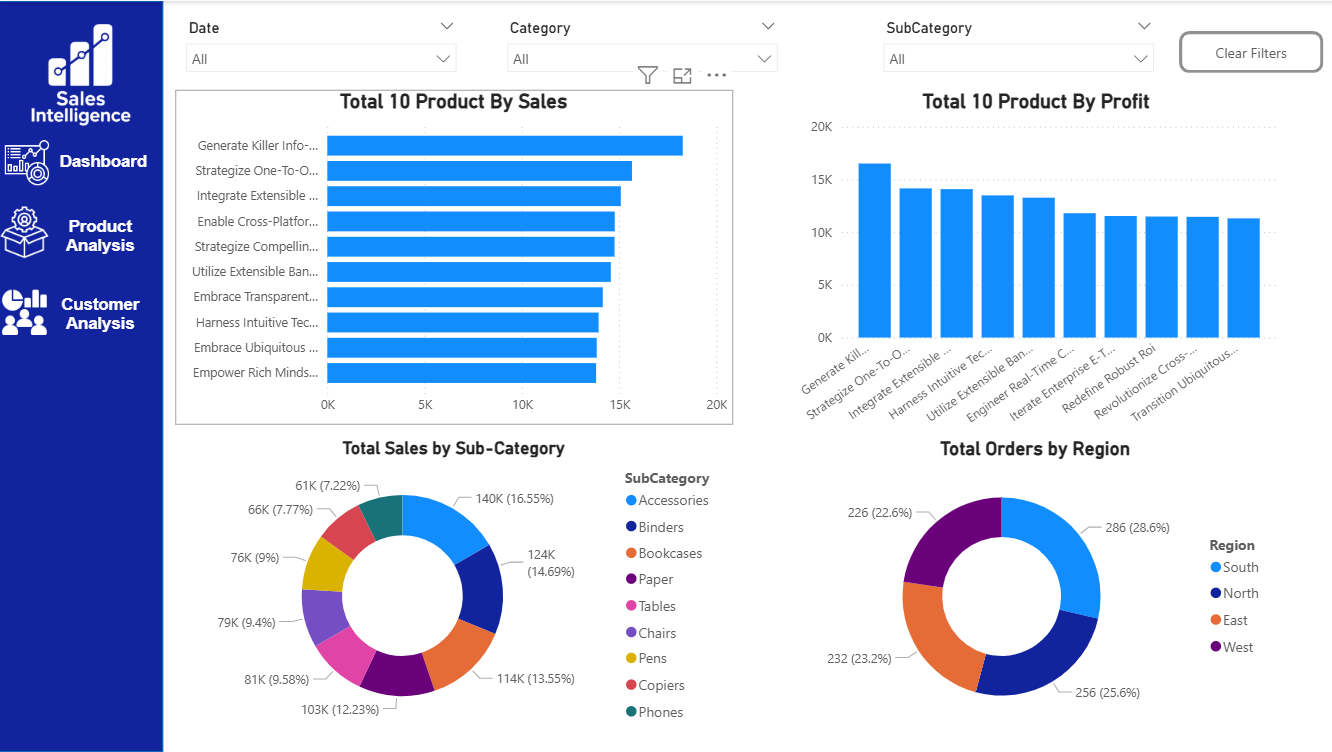

The page's visual inventory and layout, read from the dashboard file:
{"tool":"powerbi","page":{"name":"Product Analysis","canvas":[1280,720],"ordinal":1},"visuals":[{"type":"shape","box":[0,0,157.4,720],"z":0},{"type":"image","box":[0,0,157.4,145.8],"z":1000},{"type":"slicer","fields":{"Values":["Date_Dim.Date Hierarchy.Date","Date_Dim.Date Hierarchy.Start of Year","Date_Dim.Date Hierarchy.Start of Week","Date_Dim.Date Hierarchy.Start of Month"]},"box":[169.1,12.5,279.4,73],"z":1001},{"type":"slicer","fields":{"Values":["Product_Dim.Category"]},"box":[477,12.5,279.4,73],"z":1002},{"type":"slicer","fields":{"Values":["Product_Dim.SubCategory"]},"box":[838.3,12.5,279.4,73],"z":1003},{"type":"clusteredBarChart","title":"Total 10 Product By Sales","fields":{"Category":["Product_Dim.ProductName"],"Y":["Measures Table.Total Sales"]},"box":[169.1,85.4,533.9,320.4],"z":1004},{"type":"clusteredColumnChart","title":"Total 10 Product By Profit","fields":{"Category":["Product_Dim.ProductName"],"Y":["Measures Table.Total Profit"]},"box":[758.2,85.4,471.6,332.8],"z":1005},{"type":"donutChart","title":"Total Sales by Sub-Category","fields":{"Category":["Product_Dim.SubCategory"],"Y":["Measures Table.Total Sales"]},"box":[169.1,418.2,533.9,284.8],"z":1006},{"type":"donutChart","fields":{"Category":["Customer_Dim.Region"],"Y":["Measures Table.Total Orders"]},"box":[758,418,472,285],"z":1007},{"type":"textbox","box":[49.1,140.2,101.9,32.4],"z":1008},{"type":"textbox","box":[49.1,202.5,95.9,52.7],"z":1009},{"type":"textbox","box":[49.1,276.9,95.9,52.7],"z":1010},{"type":"image","box":[4.8,127,44.3,56.3],"z":1011},{"type":"image","box":[0,195.4,49.1,52.7],"z":1012},{"type":"image","box":[0,267.3,49.1,62.3],"z":1013},{"type":"actionButton","box":[1131.1,28.9,138.5,40.4],"z":1014}]}

Visuals, with their boxes on the page's 1280x720 design canvas (x1, y1, x2, y2). These are canvas units, not pixel positions in the 1332x752 screenshot, which may show the page scaled, cropped or inside an application window:
shape: [0,0,157,720]
image: [0,0,157,146]
slicer - Date_Dim.Date Hierarchy.Date x Date_Dim.Date Hierarchy.Start of Year: [169,12,448,86]
slicer - Product_Dim.Category: [477,12,756,86]
slicer - Product_Dim.SubCategory: [838,12,1118,86]
"Total 10 Product By Sales" clusteredBarChart: [169,85,703,406]
"Total 10 Product By Profit" clusteredColumnChart: [758,85,1230,418]
"Total Sales by Sub-Category" donutChart: [169,418,703,703]
donutChart - Customer_Dim.Region x Measures Table.Total Orders: [758,418,1230,703]
textbox: [49,140,151,173]
textbox: [49,202,145,255]
textbox: [49,277,145,330]
image: [5,127,49,183]
image: [0,195,49,248]
image: [0,267,49,330]
actionButton: [1131,29,1270,69]
